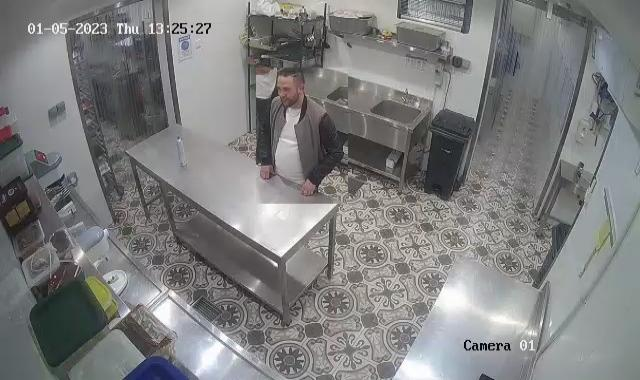no_hairnet: (277, 62, 305, 94)
